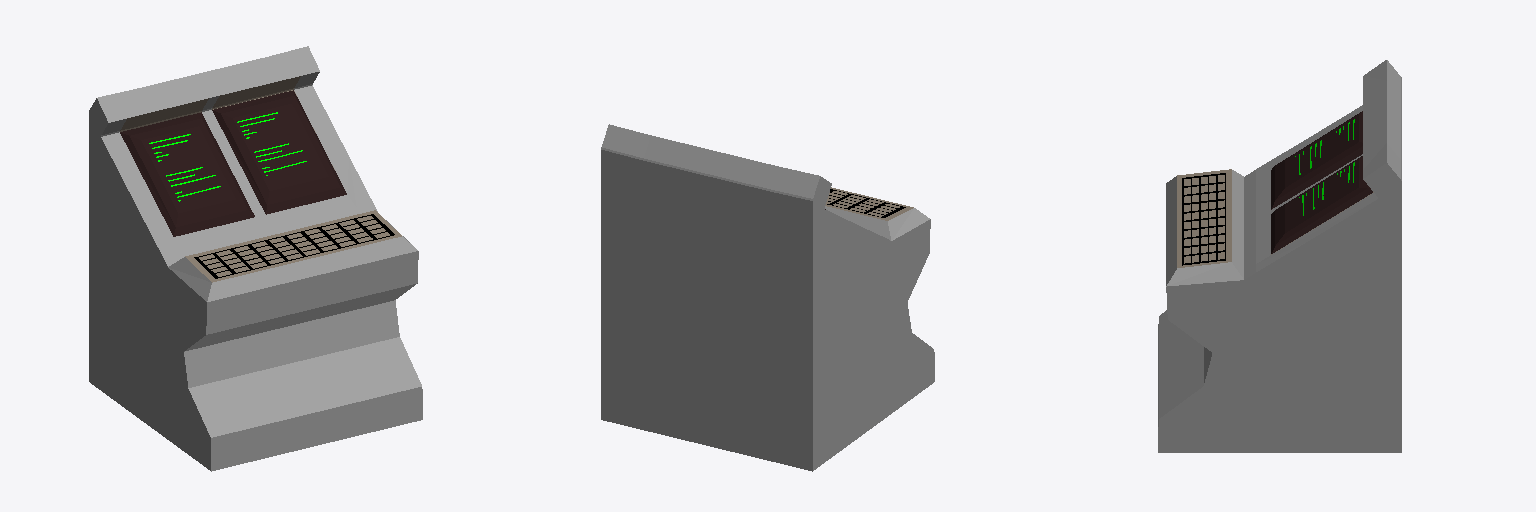
3 views of the same model, side by side, from view 1: azimuth 30°, elevation 25°; view 2: azimuth 150°, elevation 25°; view 3: azimuth 270°, elevation 25° (orthographic).
Parts seen in each view (by area): view 1: Cube; view 2: Cube; view 3: Cube.
Boxes of the visible parts, box(x1,y1,x2,y2) form: Cube: box(89, 46, 422, 471); Cube: box(601, 124, 934, 471); Cube: box(1158, 60, 1401, 452).
Size of the model in its own units: 2 by 2.62 by 2.
2 materials, 1 textured.